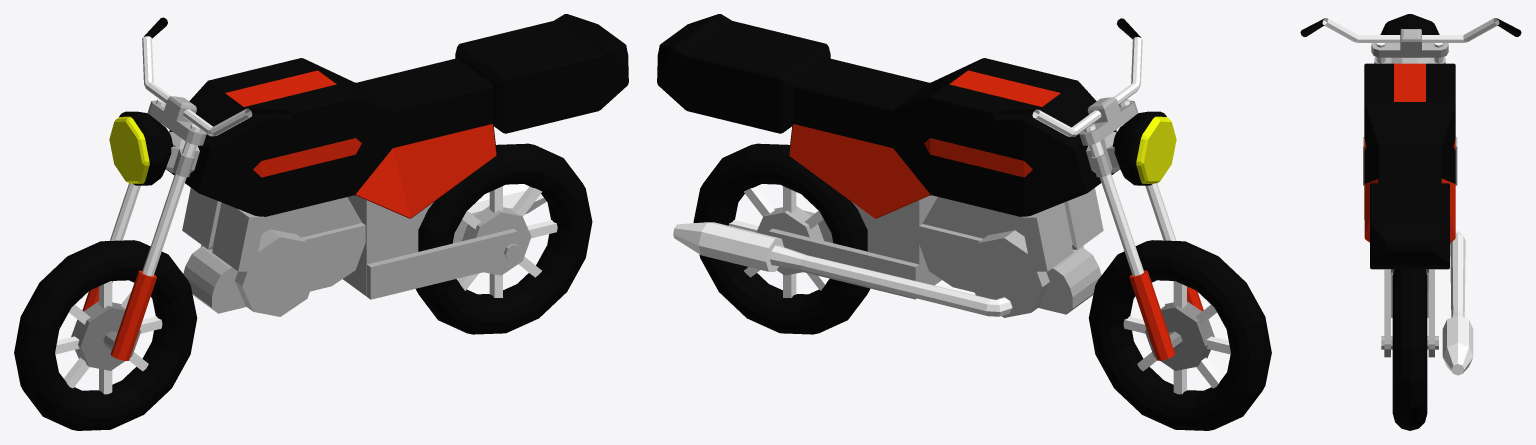
File: Motor_2.fbx
3 renders of one model, left to right at view 1: azimuth 30°, elevation 25°; view 2: azimuth 150°, elevation 25°; view 3: azimuth 270°, elevation 25°, orthographic. The views are drawn at different scales.
Parts seen in each view (by area): view 1: Cube.009; view 2: Cube.009; view 3: Cube.009.
Part boxes in pixels (x1=…): Cube.009: x1=14, y1=14, x2=628, y2=430; Cube.009: x1=657, y1=14, x2=1271, y2=430; Cube.009: x1=1300, y1=14, x2=1521, y2=430.
Size of the model in its own units: 235 by 126 by 89.5.
